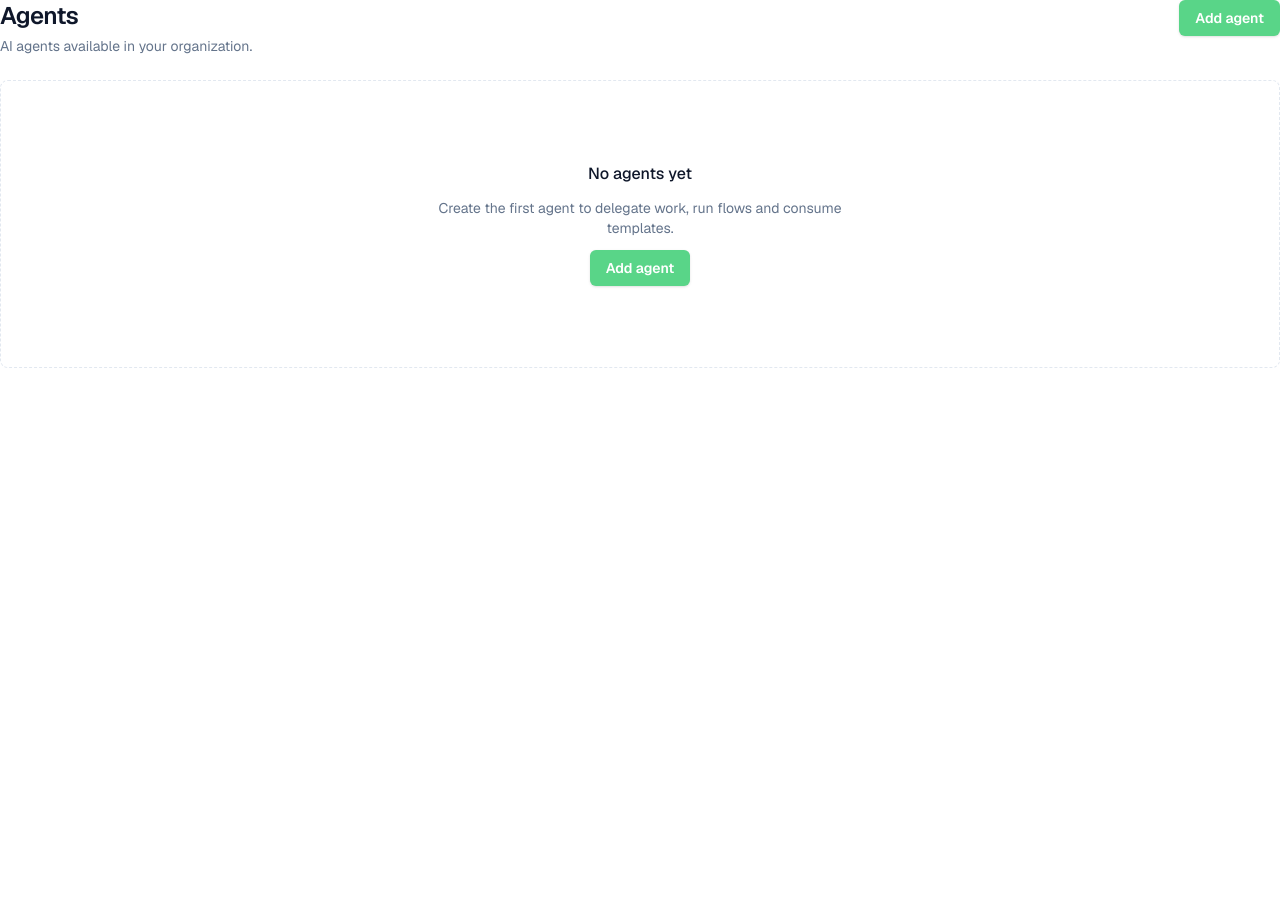
Test case: AgentsListPage › should open the choose-path dialog when the Add agent button is clicked in the empty state
The width and height of the screenshot is (1280, 900).
What coordinates should you click on to do the following:
click the 1st button "Add agent"
I would click on:
 (1230, 18)
Its box is [1179,0,1279,36].
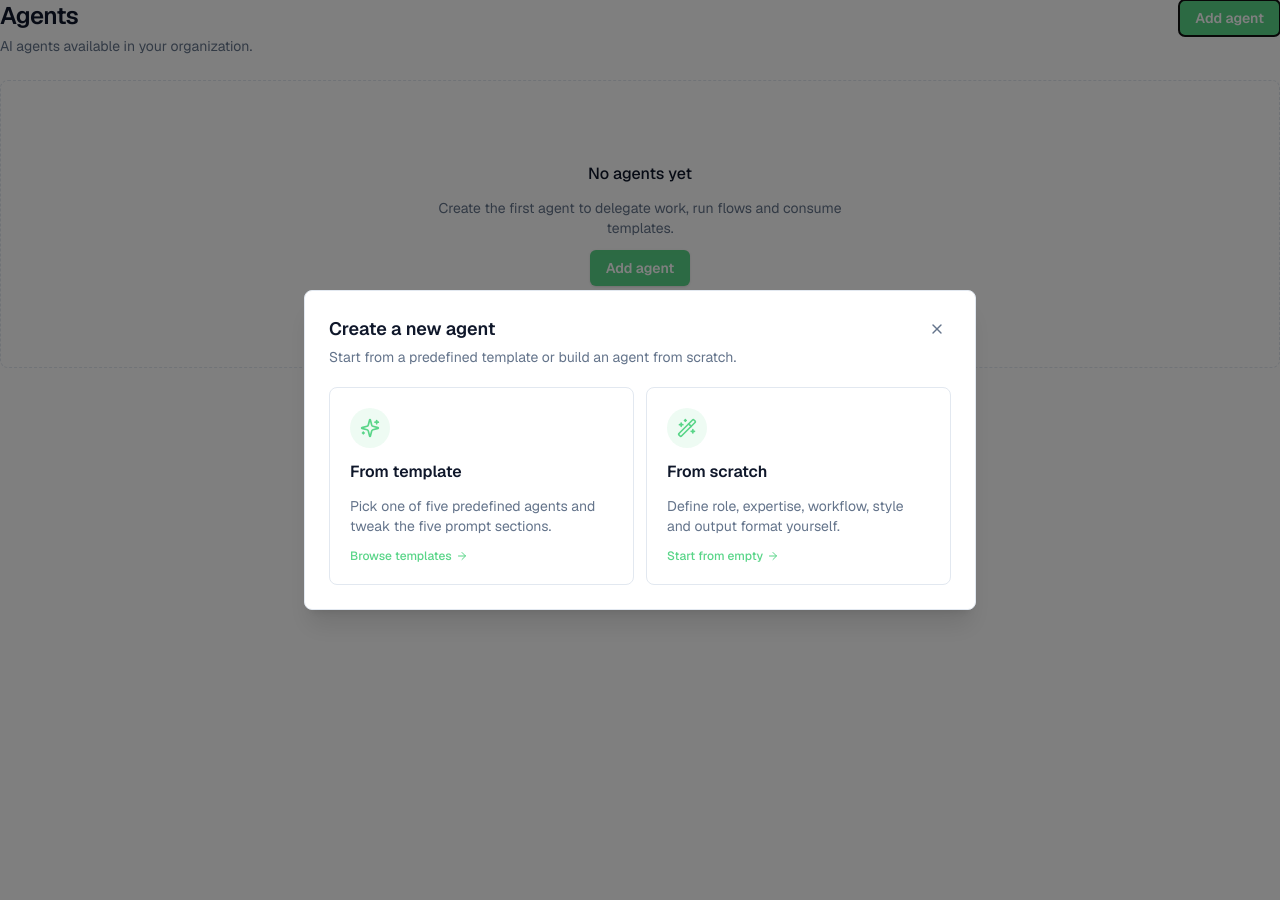
Expected: the dialog is shown
Expected: the heading "Create a new agent" is shown, [329,317,495,340]
